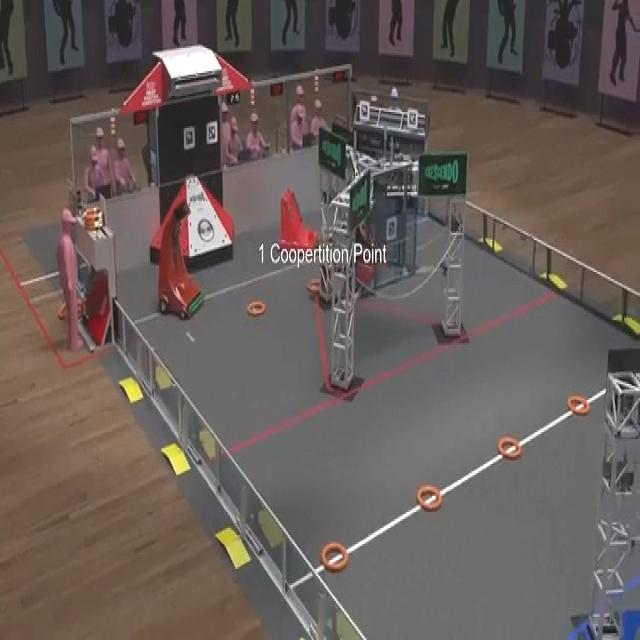notes: (321, 538, 349, 572), (416, 483, 443, 512), (496, 432, 523, 460), (566, 393, 590, 417), (247, 295, 265, 319), (308, 278, 320, 292)
